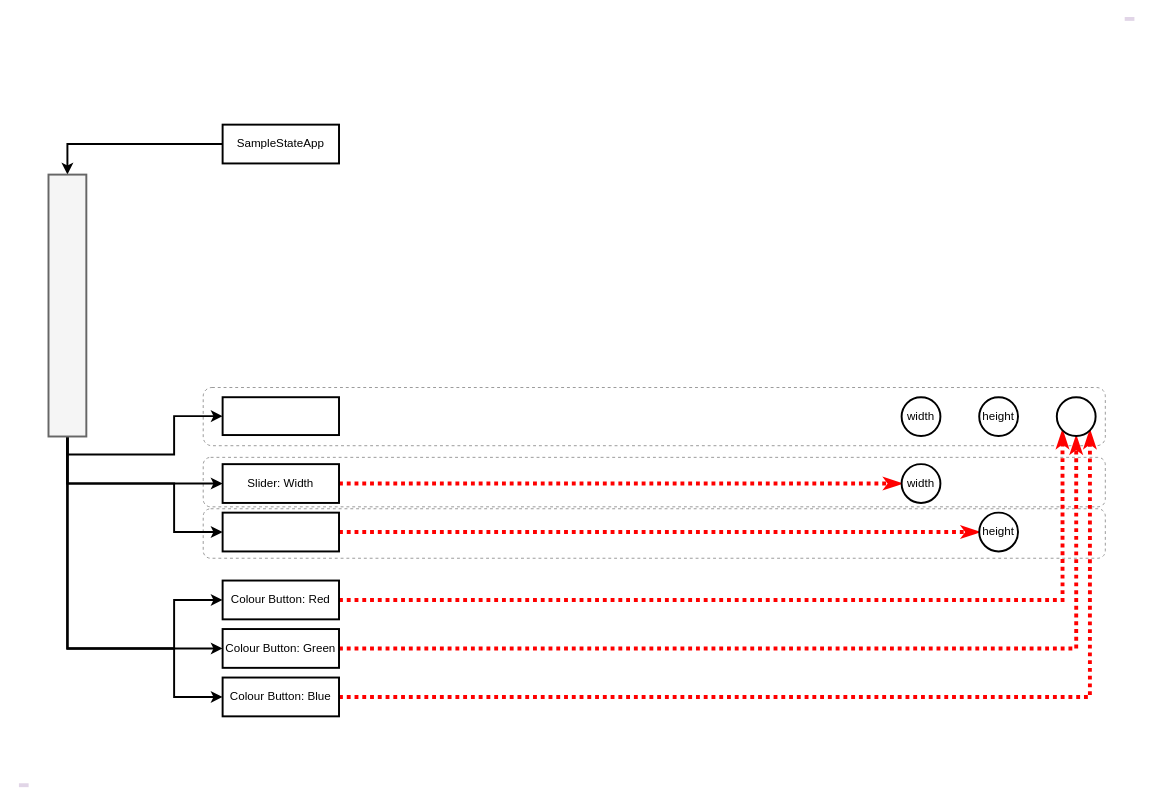
Some shapes in this 1153 by 804 pixel diagram are drawn without their labels. The shapes that lost their labels are listed below. From the top down, each one's box as (x1, y1, x2, y2) in pixels, then its label:
(47, 173, 87, 437): Some stuff that makes it appear on the screen
(221, 396, 340, 436): TheSquare
(1055, 396, 1096, 436): colour
(221, 511, 340, 552): Slider: Height
